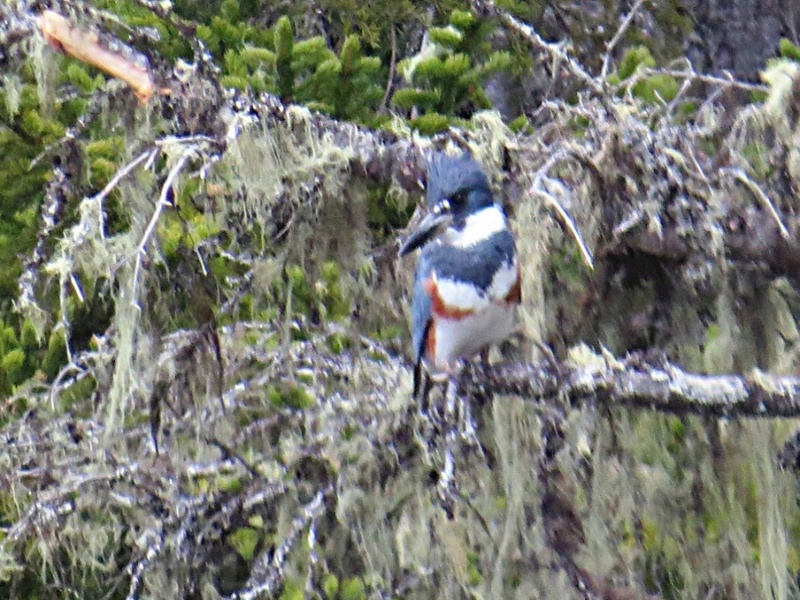kingfisher: (399, 144, 521, 418)
